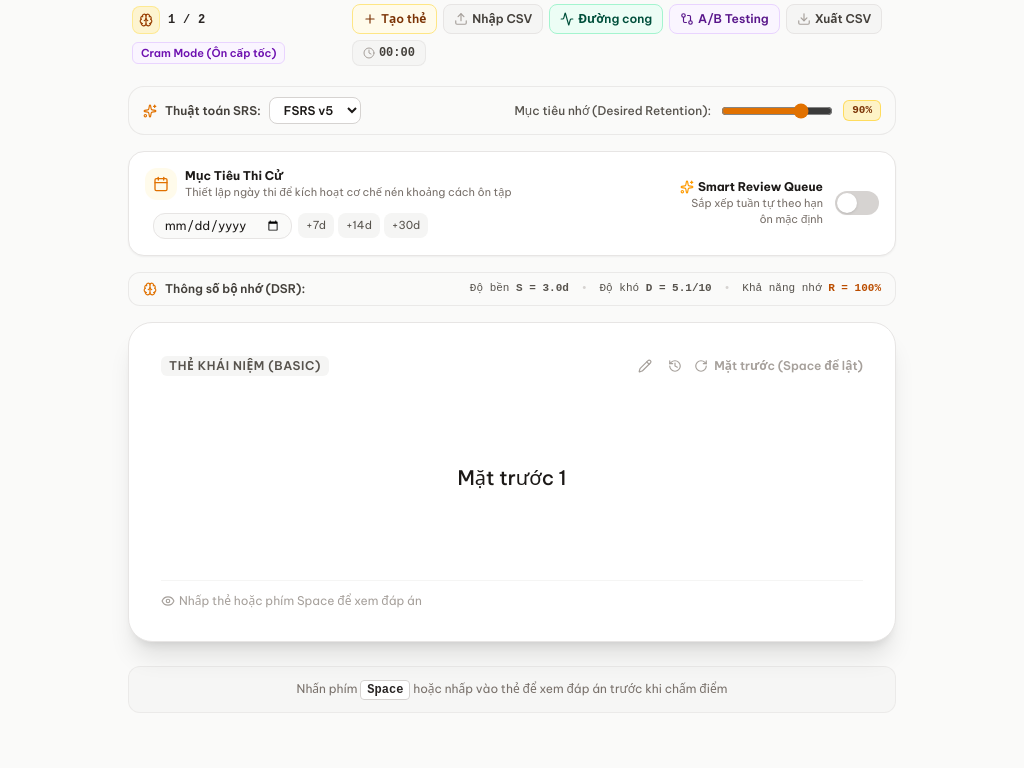
Test: FlashcardReviewStudio — Study Session Modes (Phase F6.6) › 1. Cram Mode: ratings flip and advance cards WITHOUT sending review request to API
Expected: the element with test id "badge-session-type" reads "Cram Mode (Ôn cấp tốc)", x1=141 y1=46 x2=276 y2=60
Note: Flip card
Click the button with test id "flashcard-card". click: x=512, y=622
box: x1=128 y1=322 x2=896 y2=642
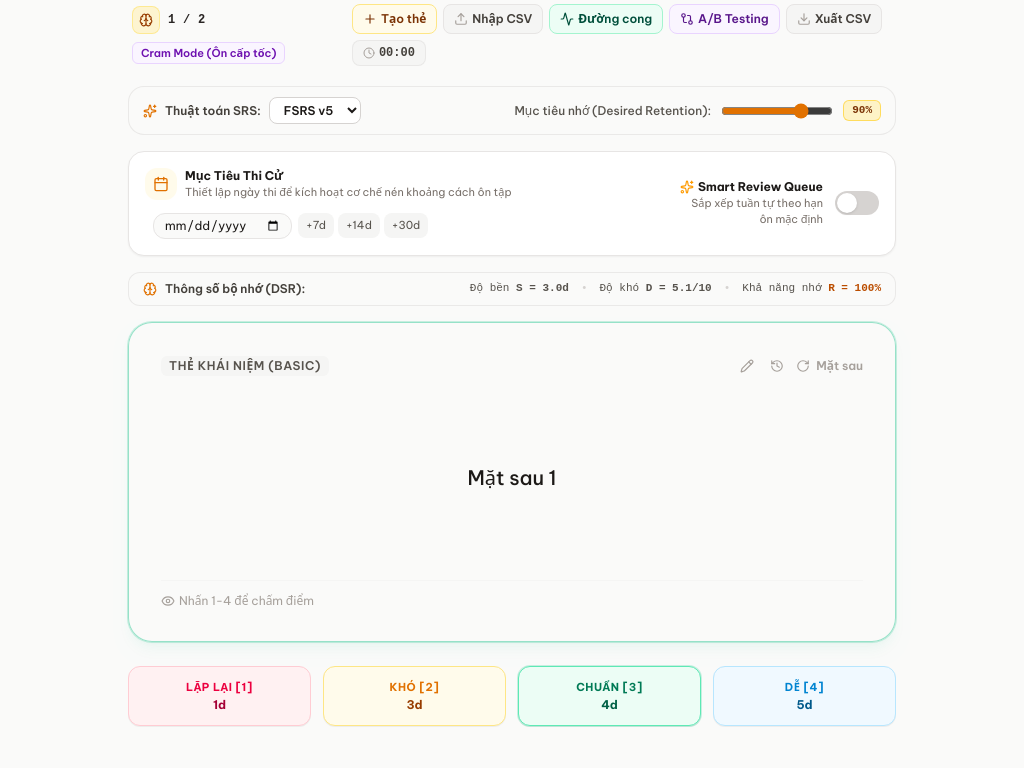
Note: Rate "Good" (3)
Click the button with test id "rating-btn-3". click: x=610, y=696
box: x1=518 y1=666 x2=701 y2=726
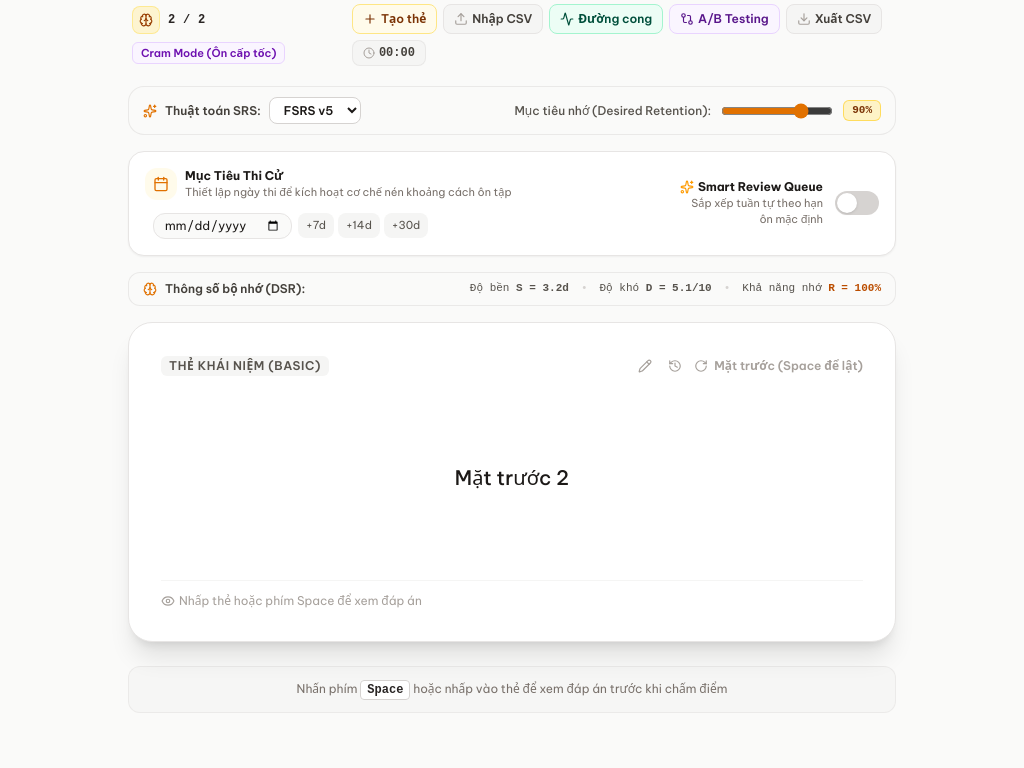
Now the text "Mặt trước 2" is shown, box x1=455 y1=465 x2=569 y2=490
